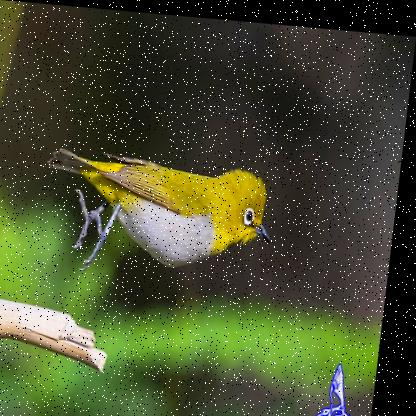Burung: (40, 146, 283, 284)
